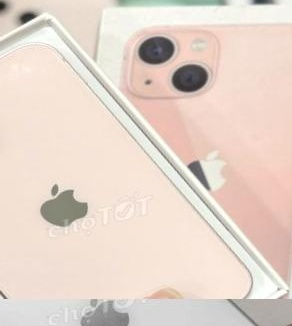scratch: (66, 299, 138, 326)
